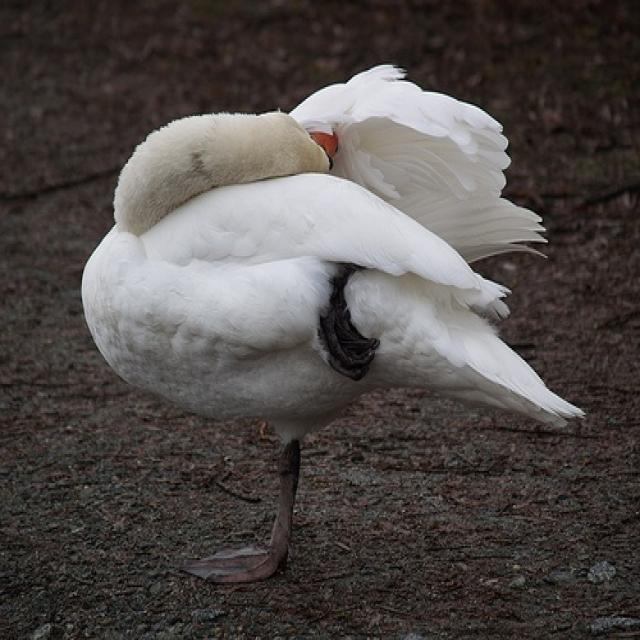bird: (82, 65, 586, 589)
